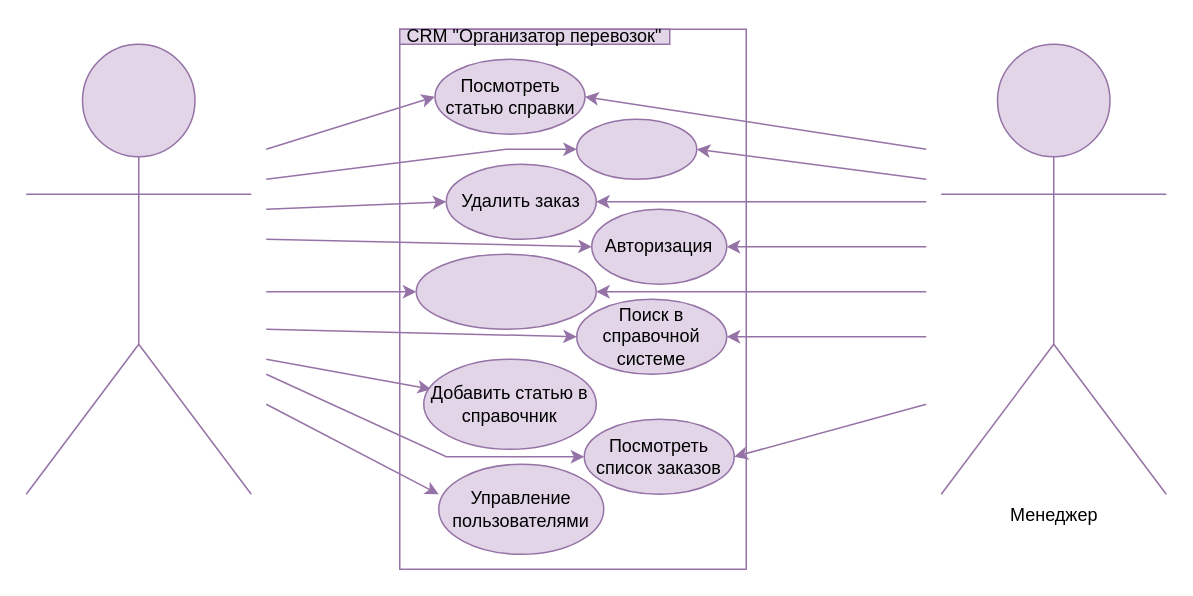
This 1193x596 diagram has some shape labels left out. The shapes that lost their labels are listed below. From the top down, each one's box as (x1, y1, x2, y2) in pixels, then its label:
(575, 118, 697, 179): Создать заказ
(25, 43, 251, 494): Администратор
(415, 253, 596, 329): Редактировать заказ
